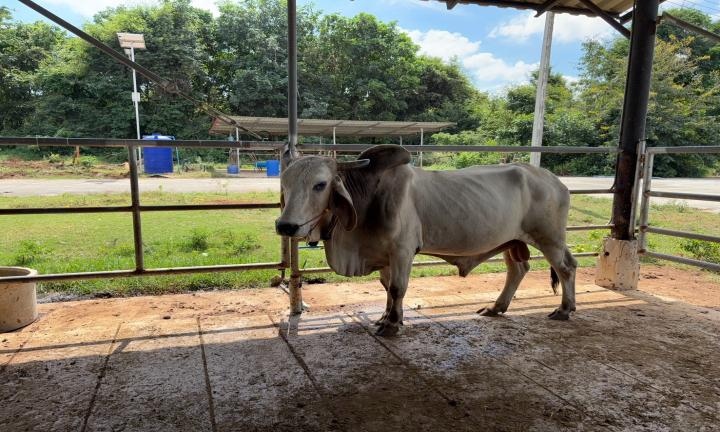Brahman: (276, 145, 576, 335)
